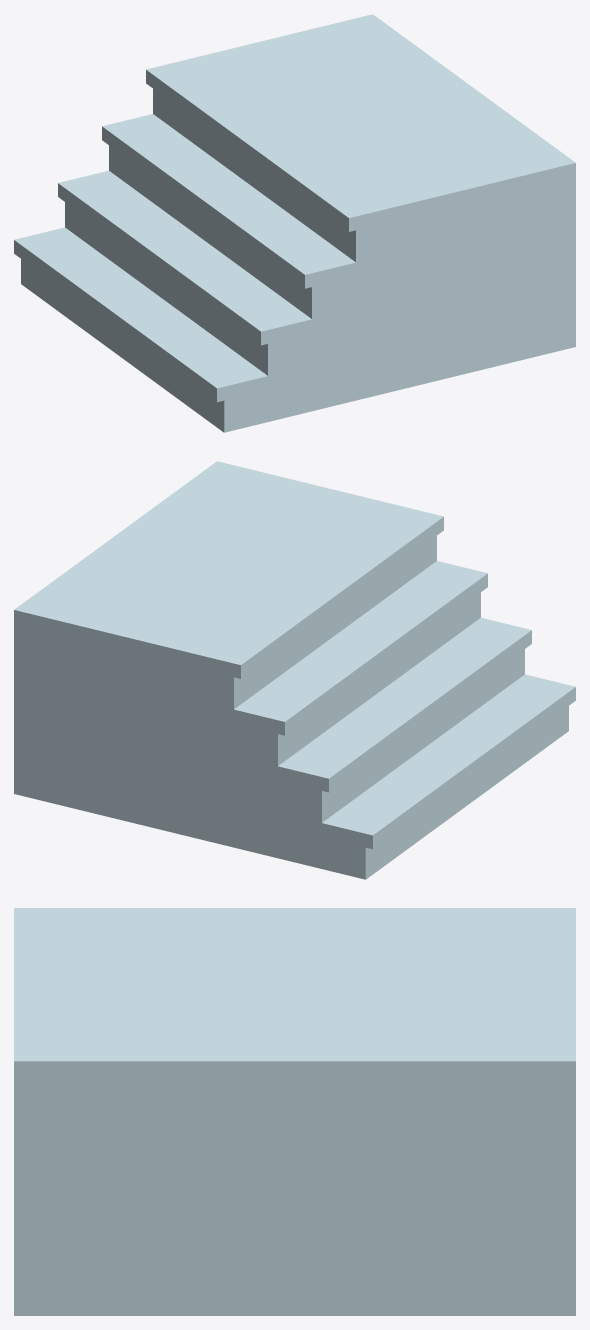
The picture shows the model from 3 angles, top to bottom: view 1: azimuth 30°, elevation 25°; view 2: azimuth 150°, elevation 25°; view 3: azimuth 270°, elevation 25°; orthographic projection. The views are drawn at different scales.
Parts seen in each view (by area): view 1: stairsFull; view 2: stairsFull; view 3: stairsFull.
Part boxes in pixels (x1,y1,x2,y2): stairsFull: (14,14,575,432); stairsFull: (14,461,575,879); stairsFull: (14,908,575,1315).
Size of the model in its own units: 1.02 by 0.5 by 1.
